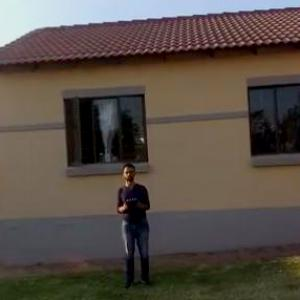follow: (116, 156, 160, 295)
